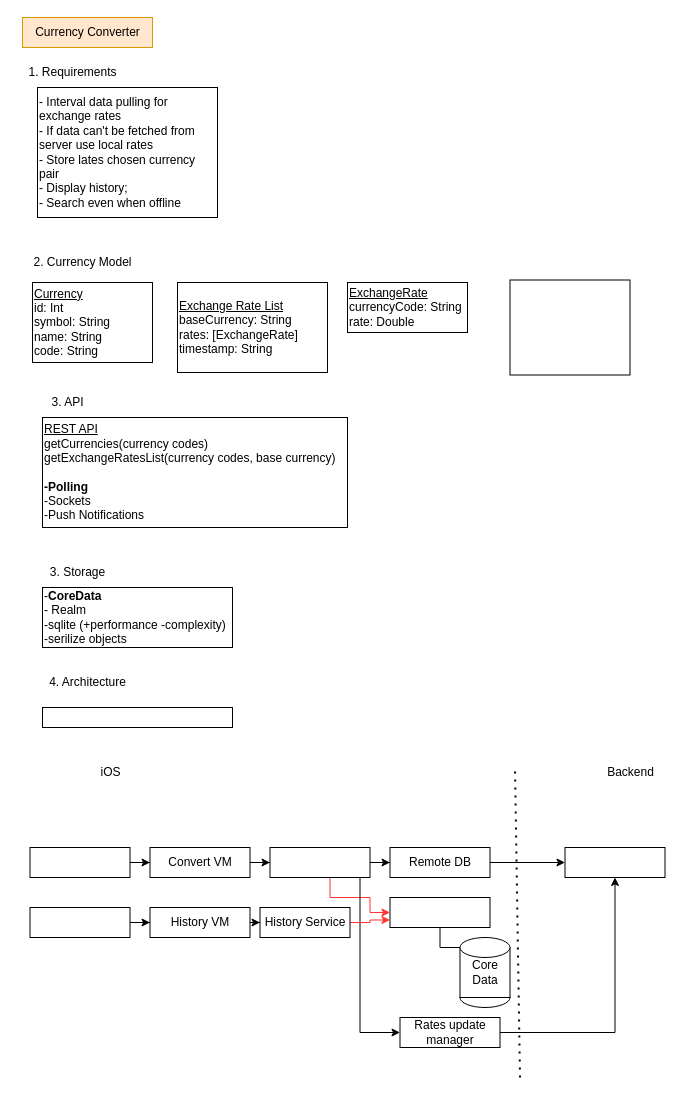
The diagram is 682 pixels wide and 1097 high, and some of its shapes have lost their labels. Here are the shapes that lost their labels. From the top down, the centre of each, then its label:
At point (569, 327): "History currency1: Currency currency2: Currency rate: Double timestamp amount".
At point (137, 717): "MVVM , VIPER, MVP".
At point (79, 862): "Convert Screen".
At point (319, 862): "Convert Service".
At point (614, 862): "REST API".
At point (79, 922): "History Screen".
At point (439, 912): "Local DB".
